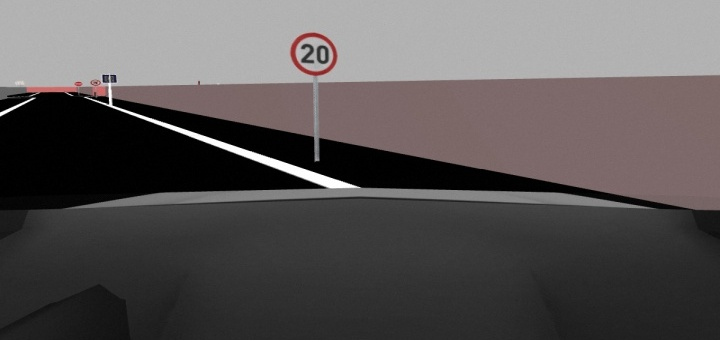hiz_20: (289, 31, 343, 75)
